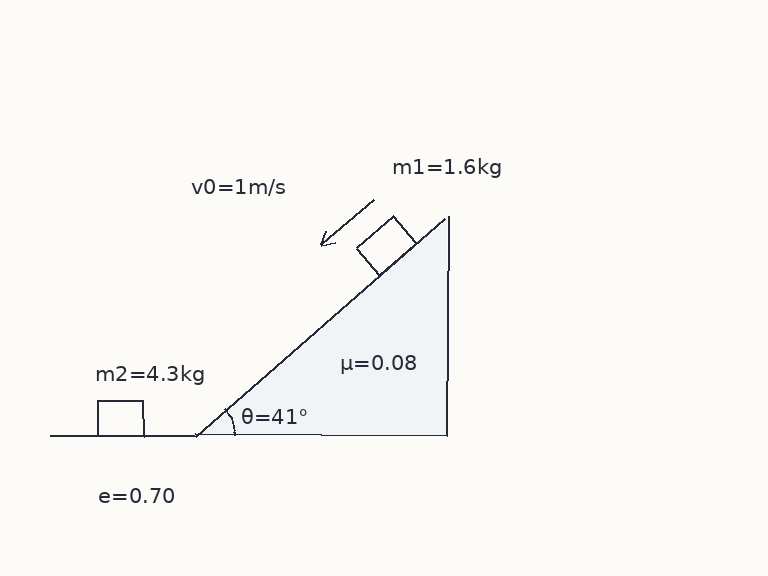block: (354, 214, 418, 277), (95, 399, 145, 437)
ramp: (193, 215, 448, 437)
